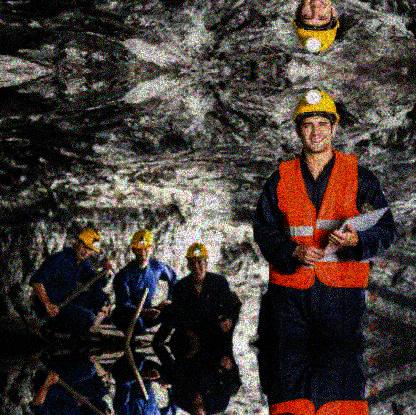helmet: (293, 87, 339, 152), (292, 1, 341, 53), (74, 225, 105, 261), (130, 230, 155, 261), (186, 242, 206, 278)
